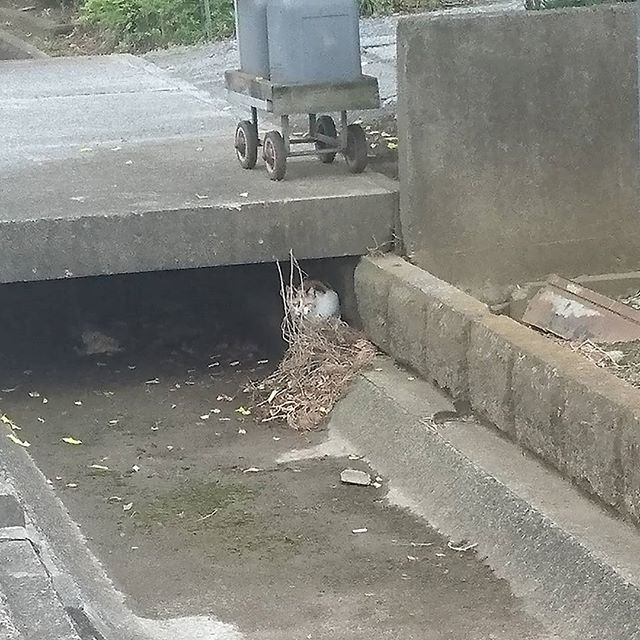animal: (273, 269, 342, 335)
